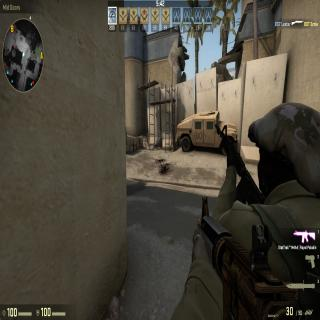CT-Body: (216, 89, 320, 300)
CT-Head: (250, 96, 320, 205)
